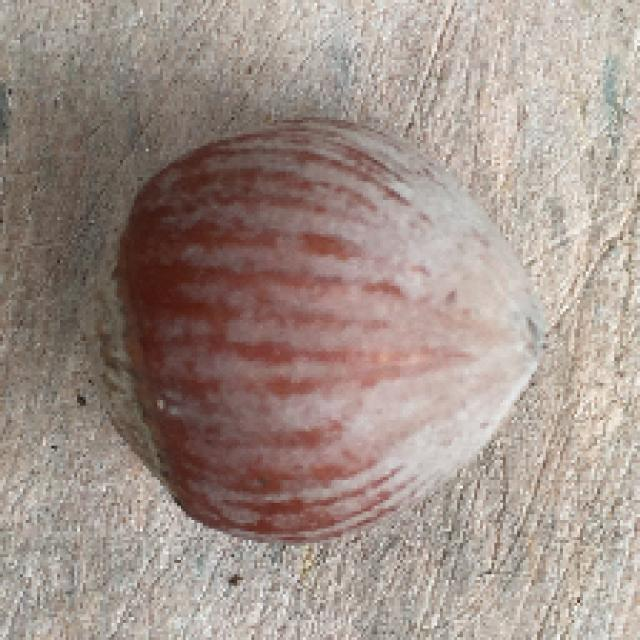QualityHazelnut: (82, 115, 546, 542)
